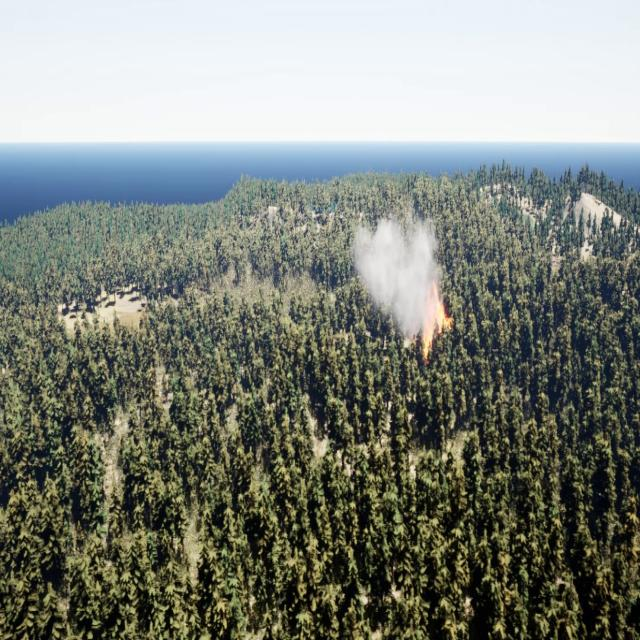fire: (418, 284, 454, 366)
smoke: (353, 217, 440, 335)
